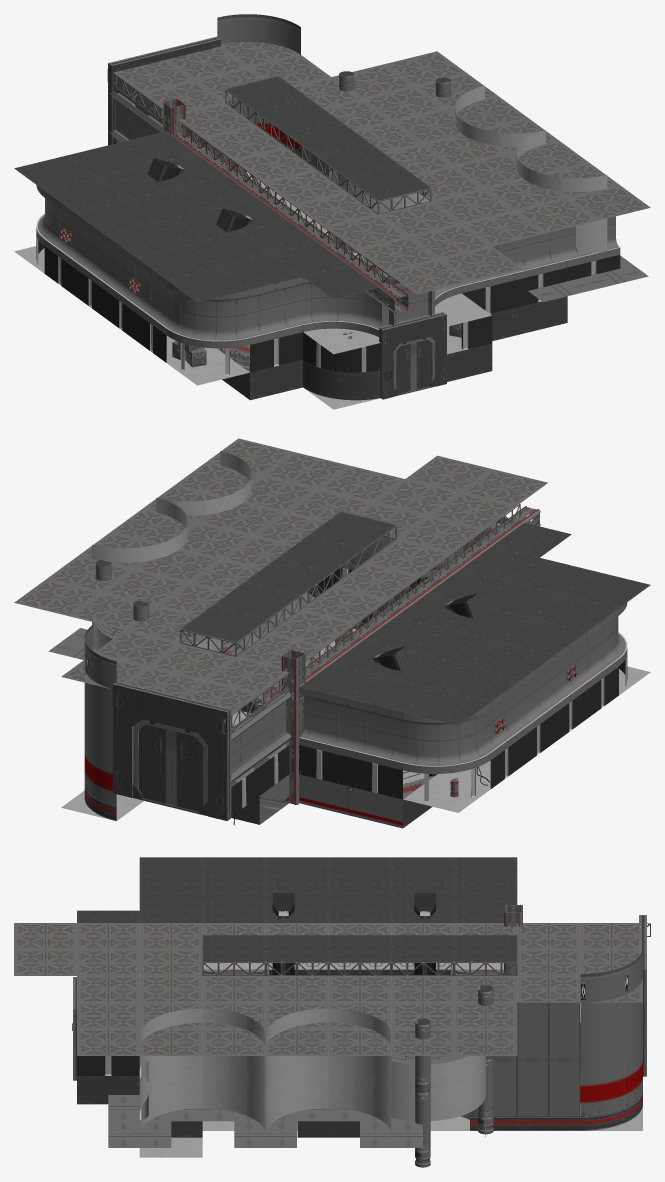
The model's file is demo-layout.glb.
3 views of the same model, one above another, from view 1: azimuth 30°, elevation 25°; view 2: azimuth 150°, elevation 25°; view 3: azimuth 270°, elevation 25° (orthographic). The views are drawn at different scales.
Parts seen in each view (by area): view 1: Door_Frame_Square.001, ShortWall_Band2_Corner_Outer, TopPlastic_Corner_Round_Outer, TopPlastic_Corner_Round_Inner.002, ShortWall_DarkMetal2_Corner_Inner, Door_Frame_Square, TopAstra_Curve_Round_Outer, TopPlastic_Straight.012, TopPlastic_Straight.018, Platform_DarkPlates.004, Platform_DarkPlates.005, Platform_DarkPlates.007 (+102 smaller); view 2: Door_Frame_Square, ShortWall_Band2_Corner_Outer, TopPlastic_Corner_Round_Inner, Door_DarkMetal.001, Door_DarkMetal, TopPlastic_Straight.008, Platform_X.023, Platform_X.003, Platform_X.030, Platform_DarkPlates.005, Platform_DarkPlates.007, Platform_X.009 (+102 smaller); view 3: ShortWall_Band2_Corner_Outer, ShortWall_MetalPlates_Straight.001, ShortWall_MetalPlates_Straight, Column_Round.001, ShortWall_WhitePlate2_Corner_Outer.025, ShortWall_WhitePlate2_Corner_Outer.018, ShortWall_WhitePlate2_Corner_Outer.019, Platform_X.030, ShortWall_WhitePlate2_Corner_Outer.024, Platform_X.024, Platform_DarkPlates.002, Platform_DarkPlates.003 (+95 smaller).
Boxes of the visible parts, x1=… form: Door_Frame_Square.001: x1=379, y1=312, x2=446, y2=399; ShortWall_Band2_Corner_Outer: x1=217, y1=14, x2=300, y2=156; TopPlastic_Corner_Round_Outer: x1=298, y1=297, x2=393, y2=336; TopPlastic_Corner_Round_Inner.002: x1=166, y1=306, x2=249, y2=348; ShortWall_DarkMetal2_Corner_Inner: x1=303, y1=360, x2=380, y2=400; Door_Frame_Square: x1=108, y1=36, x2=220, y2=146; TopAstra_Curve_Round_Outer: x1=303, y1=332, x2=380, y2=372; TopPlastic_Straight.012: x1=245, y1=301, x2=302, y2=344; TopPlastic_Straight.018: x1=510, y1=237, x2=567, y2=280; Platform_DarkPlates.004: x1=75, y1=200, x2=157, y2=235; Platform_DarkPlates.005: x1=106, y1=222, x2=188, y2=257; Platform_DarkPlates.007: x1=167, y1=267, x2=249, y2=302; Door_Frame_Square: x1=112, y1=681, x2=231, y2=820; ShortWall_Band2_Corner_Outer: x1=84, y1=624, x2=116, y2=806; TopPlastic_Corner_Round_Inner: x1=403, y1=729, x2=490, y2=773; Door_DarkMetal.001: x1=139, y1=724, x2=171, y2=804; Door_DarkMetal: x1=171, y1=731, x2=202, y2=811; TopPlastic_Straight.008: x1=347, y1=724, x2=407, y2=770; Platform_X.023: x1=318, y1=465, x2=404, y2=502; Platform_X.003: x1=149, y1=643, x2=235, y2=680; Platform_X.030: x1=262, y1=452, x2=349, y2=488; Platform_DarkPlates.005: x1=499, y1=618, x2=586, y2=655; Platform_DarkPlates.007: x1=563, y1=571, x2=650, y2=608; Platform_X.009: x1=397, y1=516, x2=483, y2=552; ShortWall_Band2_Corner_Outer: x1=580, y1=950, x2=642, y2=1116; ShortWall_MetalPlates_Straight.001: x1=517, y1=1002, x2=548, y2=1116; ShortWall_MetalPlates_Straight: x1=548, y1=1002, x2=579, y2=1116; Column_Round.001: x1=415, y1=1018, x2=430, y2=1167; ShortWall_WhitePlate2_Corner_Outer.025: x1=202, y1=1079, x2=265, y2=1133; ShortWall_WhitePlate2_Corner_Outer.018: x1=265, y1=1079, x2=328, y2=1133; ShortWall_WhitePlate2_Corner_Outer.019: x1=328, y1=1079, x2=391, y2=1132; Platform_X.030: x1=77, y1=1002, x2=139, y2=1029; ShortWall_WhitePlate2_Corner_Outer.024: x1=139, y1=1079, x2=202, y2=1134; Platform_X.024: x1=454, y1=1002, x2=517, y2=1029; Platform_DarkPlates.002: x1=454, y1=857, x2=517, y2=883; Platform_DarkPlates.003: x1=391, y1=857, x2=454, y2=883.
Bounding box in the file's own units: 33 × 11.82 × 40.5.
18 materials, 14 textured.
